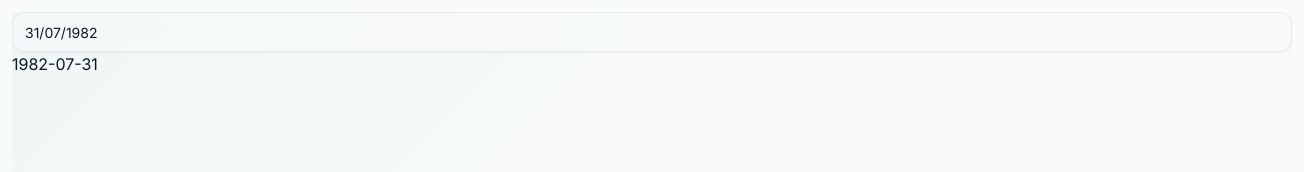
Scenario: DateInput › snaps back on blur rather than showing one date and saving another
Replace the text in the field with placeholder "dd/mm/yyyy" with "31/07/19": (652, 32) [12,12,1292,52]
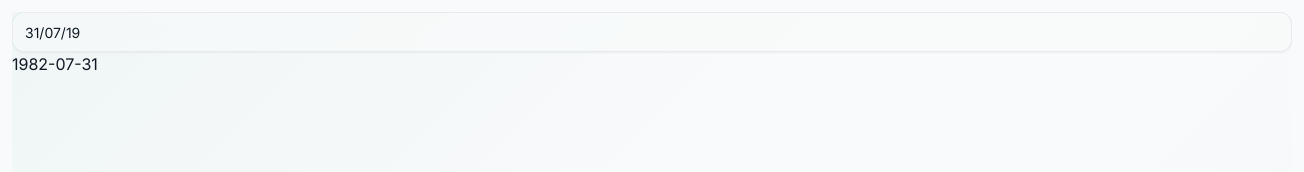
Leave the field with placeholder "dd/mm/yyyy", box [12,12,1292,52]
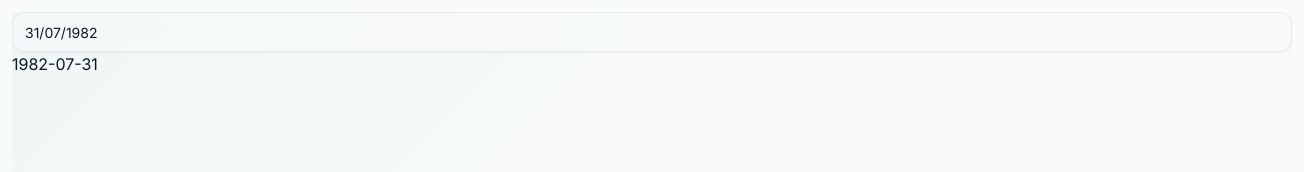
Expected: the field with placeholder "dd/mm/yyyy" holds "31/07/1982", [12,12,1292,52]
